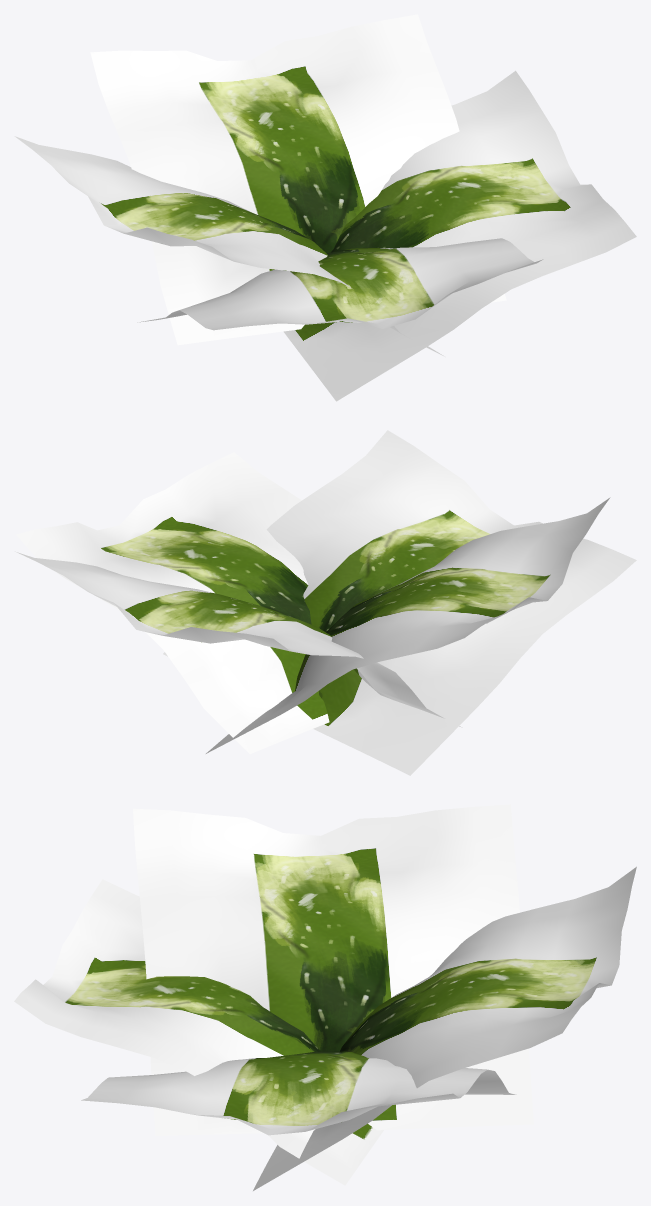
The model's file is turnipleafnew.fbx.
The picture shows the model from 3 angles, top to bottom: view 1: azimuth 30°, elevation 25°; view 2: azimuth 150°, elevation 25°; view 3: azimuth 270°, elevation 25°; orthographic projection. The views are drawn at different scales.
Visible parts, largest first — view 1: pPlane1 (×2), leaf, pPlane2; view 2: pPlane2, leaf, pPlane1 (×2); view 3: pPlane1 (×2), pPlane2, leaf.
Boxes of the visible parts, bbox=[...] form: pPlane1 (×2): bbox=[14, 14, 506, 356]; leaf: bbox=[283, 70, 636, 401]; pPlane2: bbox=[137, 238, 543, 330]; pPlane2: bbox=[163, 430, 636, 775]; leaf: bbox=[16, 452, 329, 753]; pPlane1 (×2): bbox=[15, 497, 610, 753]; pPlane1 (×2): bbox=[133, 804, 636, 1190]; pPlane2: bbox=[14, 879, 383, 1185]; leaf: bbox=[81, 1051, 516, 1135].
Size of the model in its own units: 23.49 by 9.1 by 24.29.
